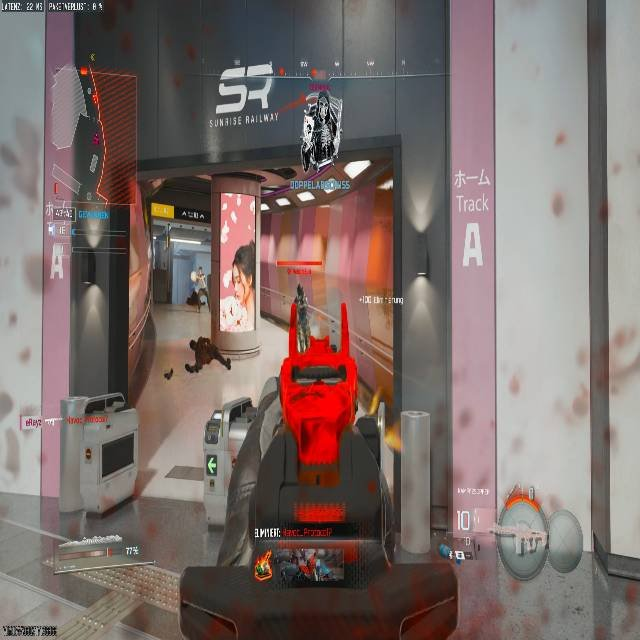player: (290, 282, 315, 343), (190, 265, 209, 305), (293, 281, 310, 311)
